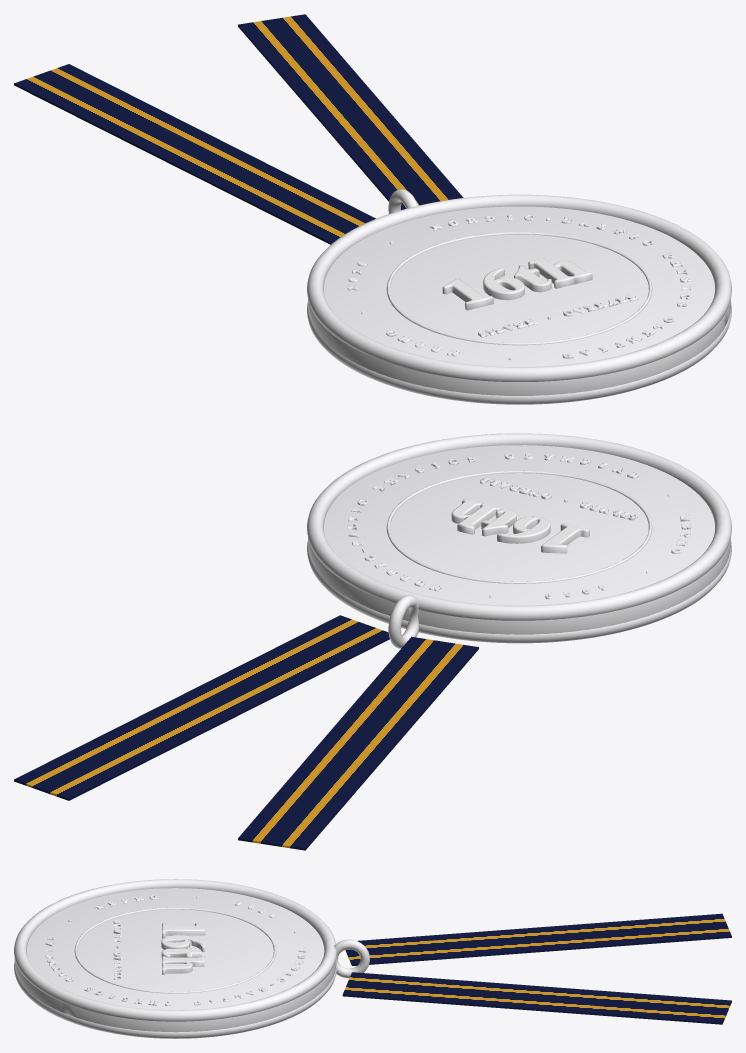
File: medal-silver-en.glb
3 views of the same model, one above another, from view 1: azimuth 30°, elevation 25°; view 2: azimuth 150°, elevation 25°; view 3: azimuth 270°, elevation 25° (orthographic). The views are drawn at different scales.
Visible parts, largest first — view 1: field, ribbon, relief; view 2: field, ribbon, relief; view 3: field, ribbon, relief.
Part boxes in pixels (x1,y1,x2,y2): field: (308, 206, 730, 395); ribbon: (14, 14, 463, 244); relief: (307, 189, 731, 404); field: (308, 445, 730, 634); ribbon: (14, 615, 478, 850); relief: (307, 433, 731, 648); field: (14, 888, 336, 1032); ribbon: (342, 913, 731, 1024); relief: (14, 879, 369, 1038).
Size of the model in its own units: 2.01 by 0.2598 by 4.47.
3 materials, 1 textured.
